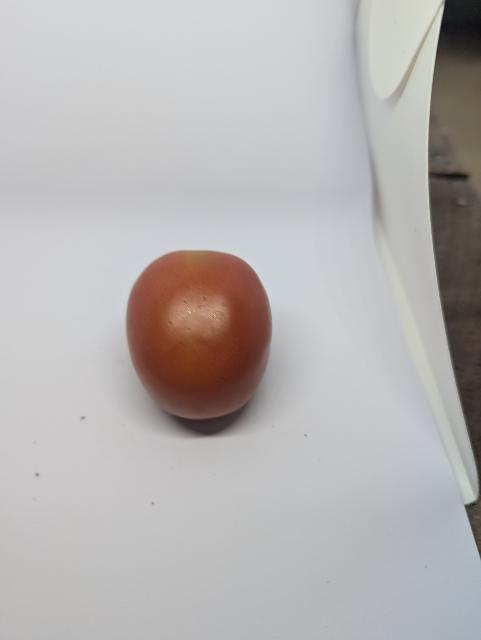red: (115, 238, 284, 429)
